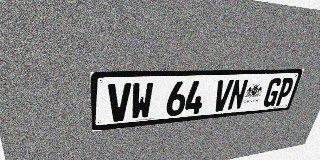4: (184, 80, 207, 115)
6: (165, 81, 189, 117)
G: (262, 78, 283, 107)
N: (227, 79, 249, 111)
P: (274, 78, 295, 106)
V: (108, 83, 131, 122), (211, 80, 234, 112)
W: (130, 82, 154, 120)
